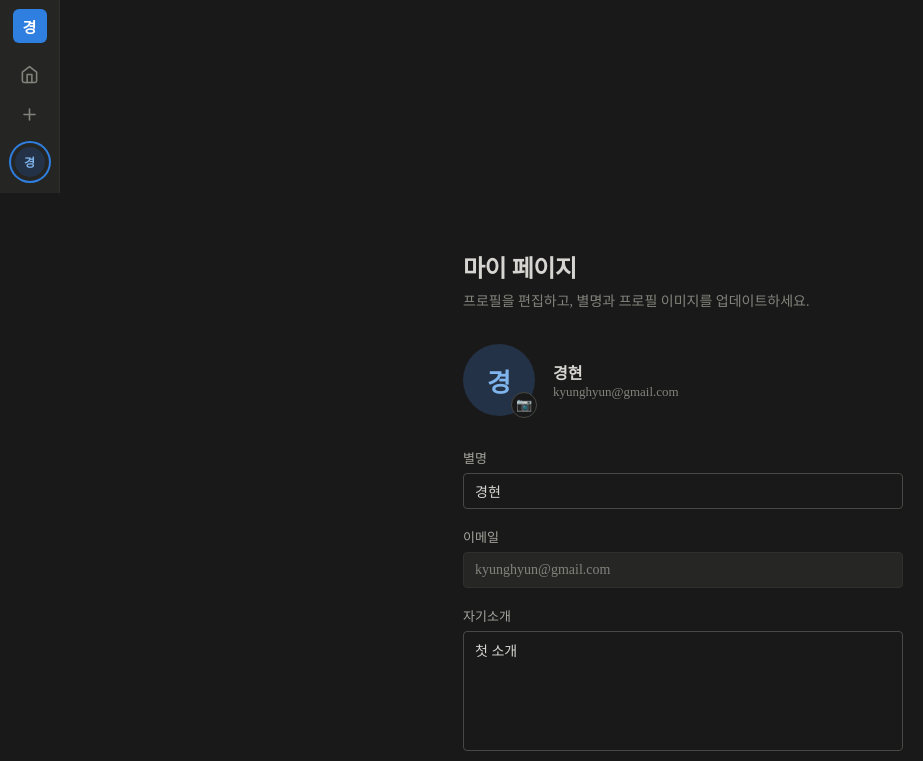
마이페이지 자기소개 — 수정 (US2) › 기존 자기소개를 고쳐 저장하면 수정본으로 PUT 요청을 보낸다
The image size is (923, 761).
Replace the text in the text box with placeholder "자신을 소개하는 글을 남겨보세요" with "고친 소개" at (683, 691), box x1=463 y1=631 x2=903 y2=751
(page scrolled)
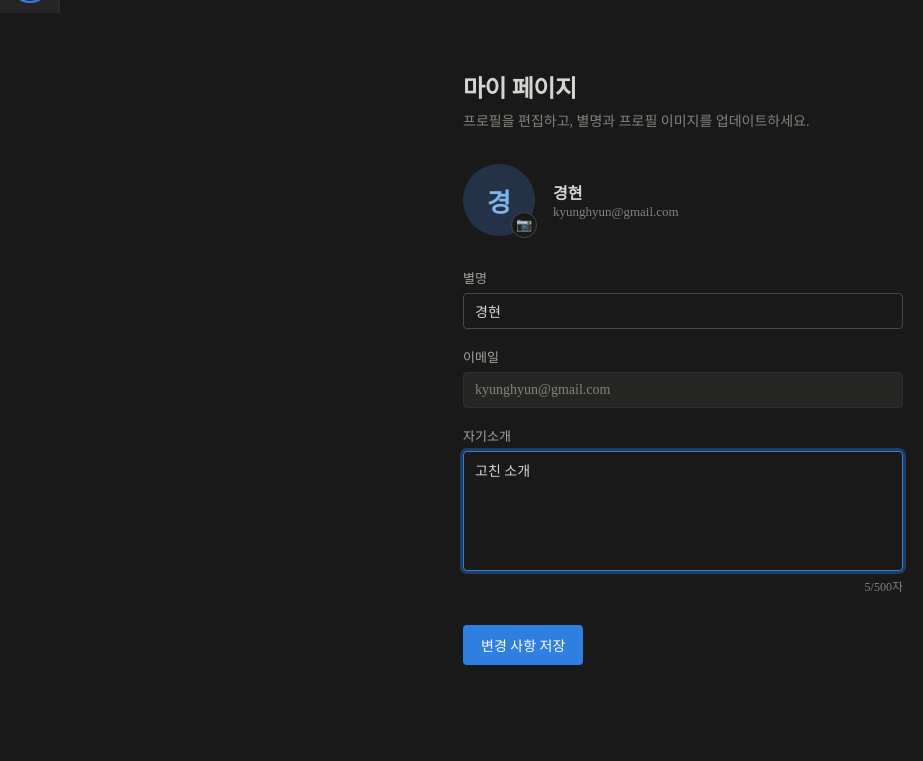
Click the button "변경 사항 저장" at (523, 645), box x1=463 y1=625 x2=583 y2=665
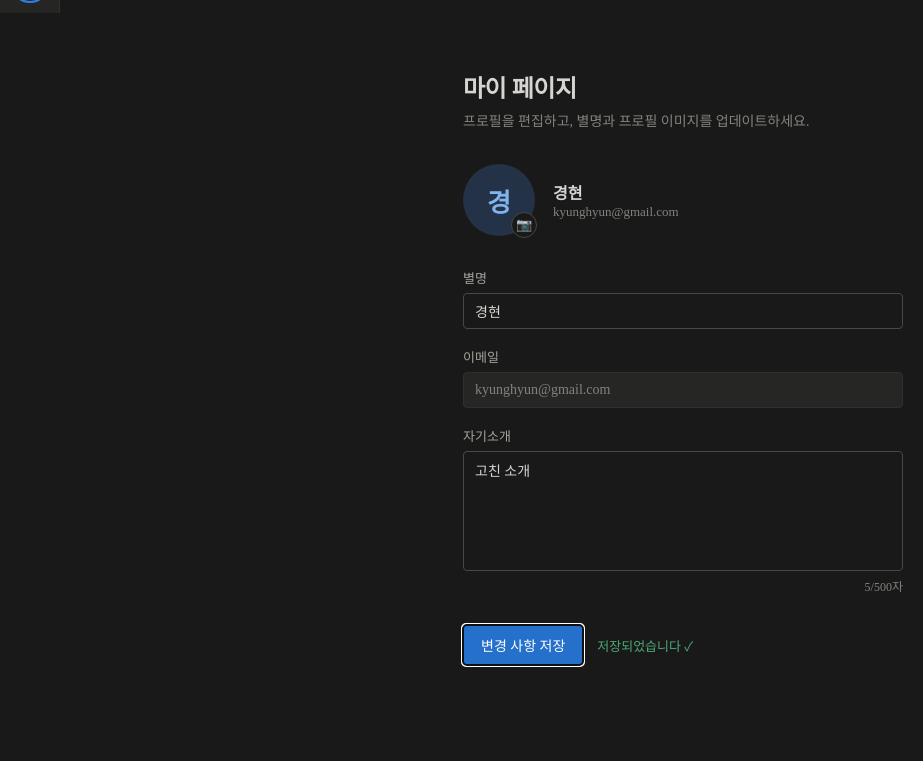
expect the text "저장되었습니다 ✓" is shown: met, box x1=597 y1=636 x2=693 y2=654
